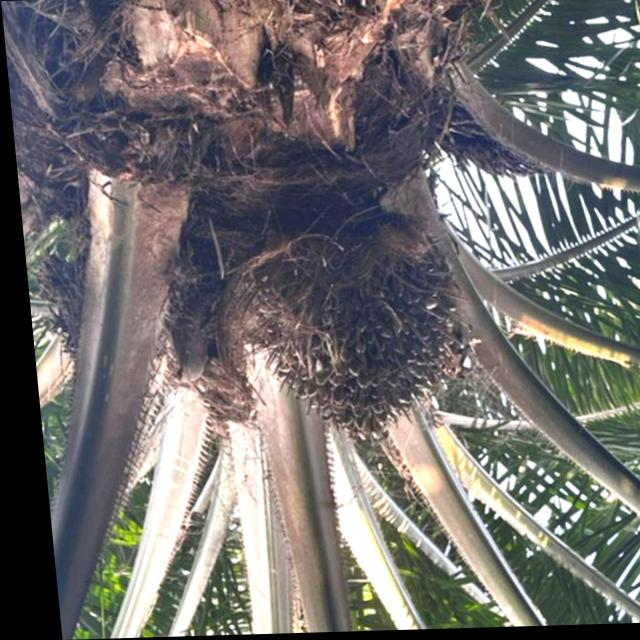almost: (228, 212, 471, 454)
